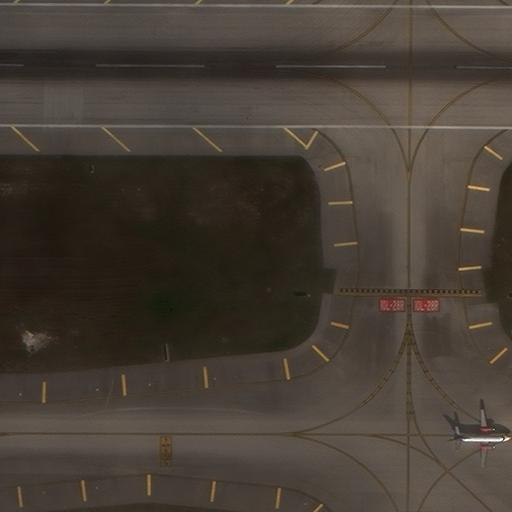Medium Civil Transport: (453, 406, 511, 468)
